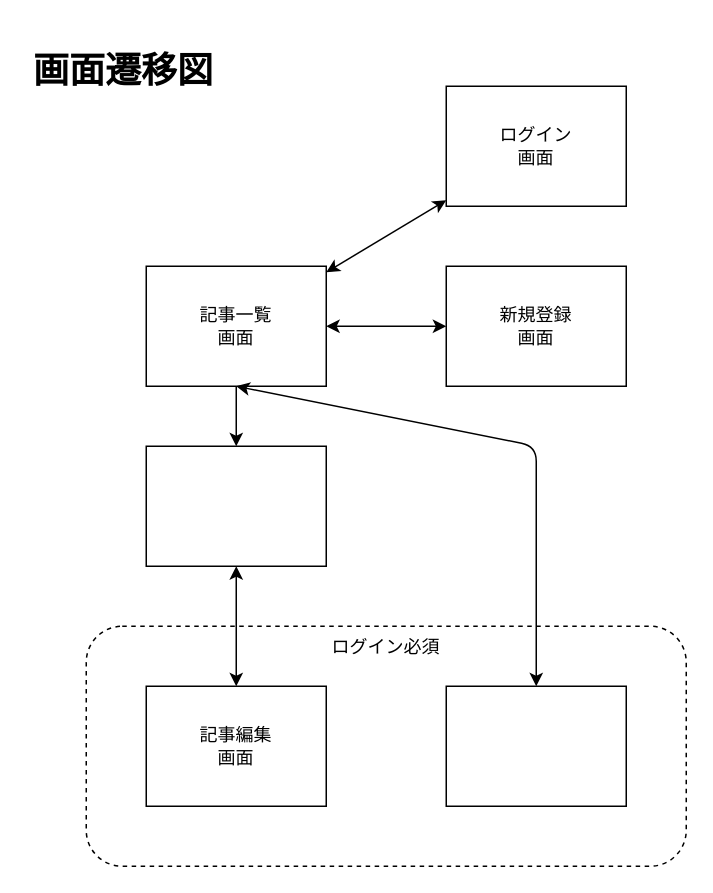
Image size: 713x893. Some labels were removed from this diagram. Each missing label, with the box of its shape:
記事作成 画面: (445, 685, 626, 806)
記事詳細 画面: (145, 445, 326, 566)
